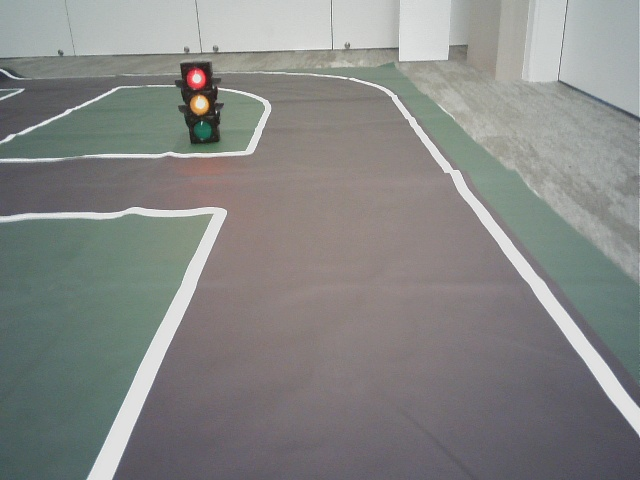red: (182, 64, 216, 138)
